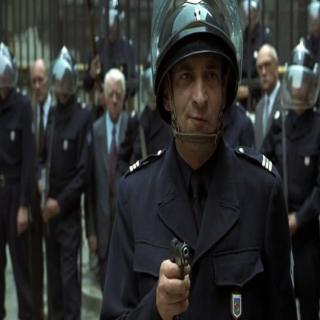gun: (152, 228, 199, 312)
